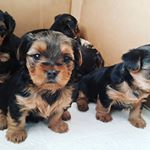puppy: (1, 27, 84, 141), (94, 39, 150, 135)
